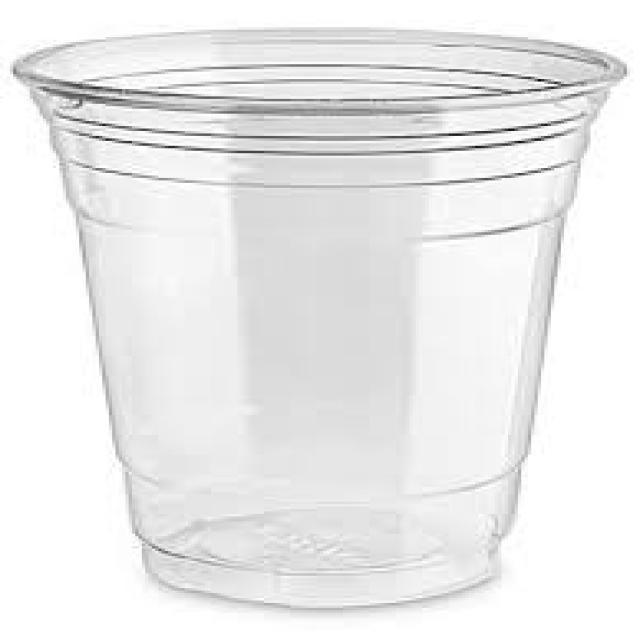cup: (12, 17, 628, 619)
